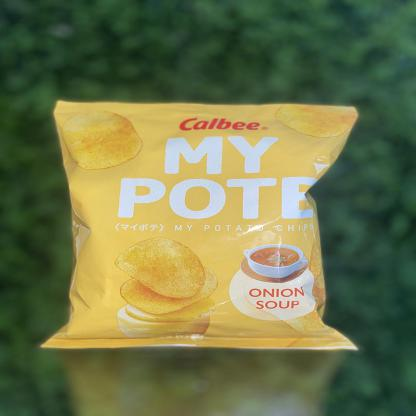potatochip: (38, 99, 362, 354)
